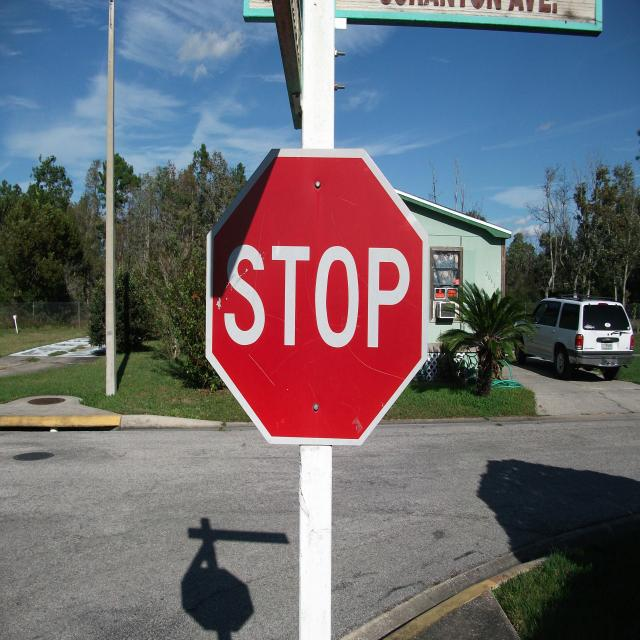stop-sign: (184, 127, 457, 442)
